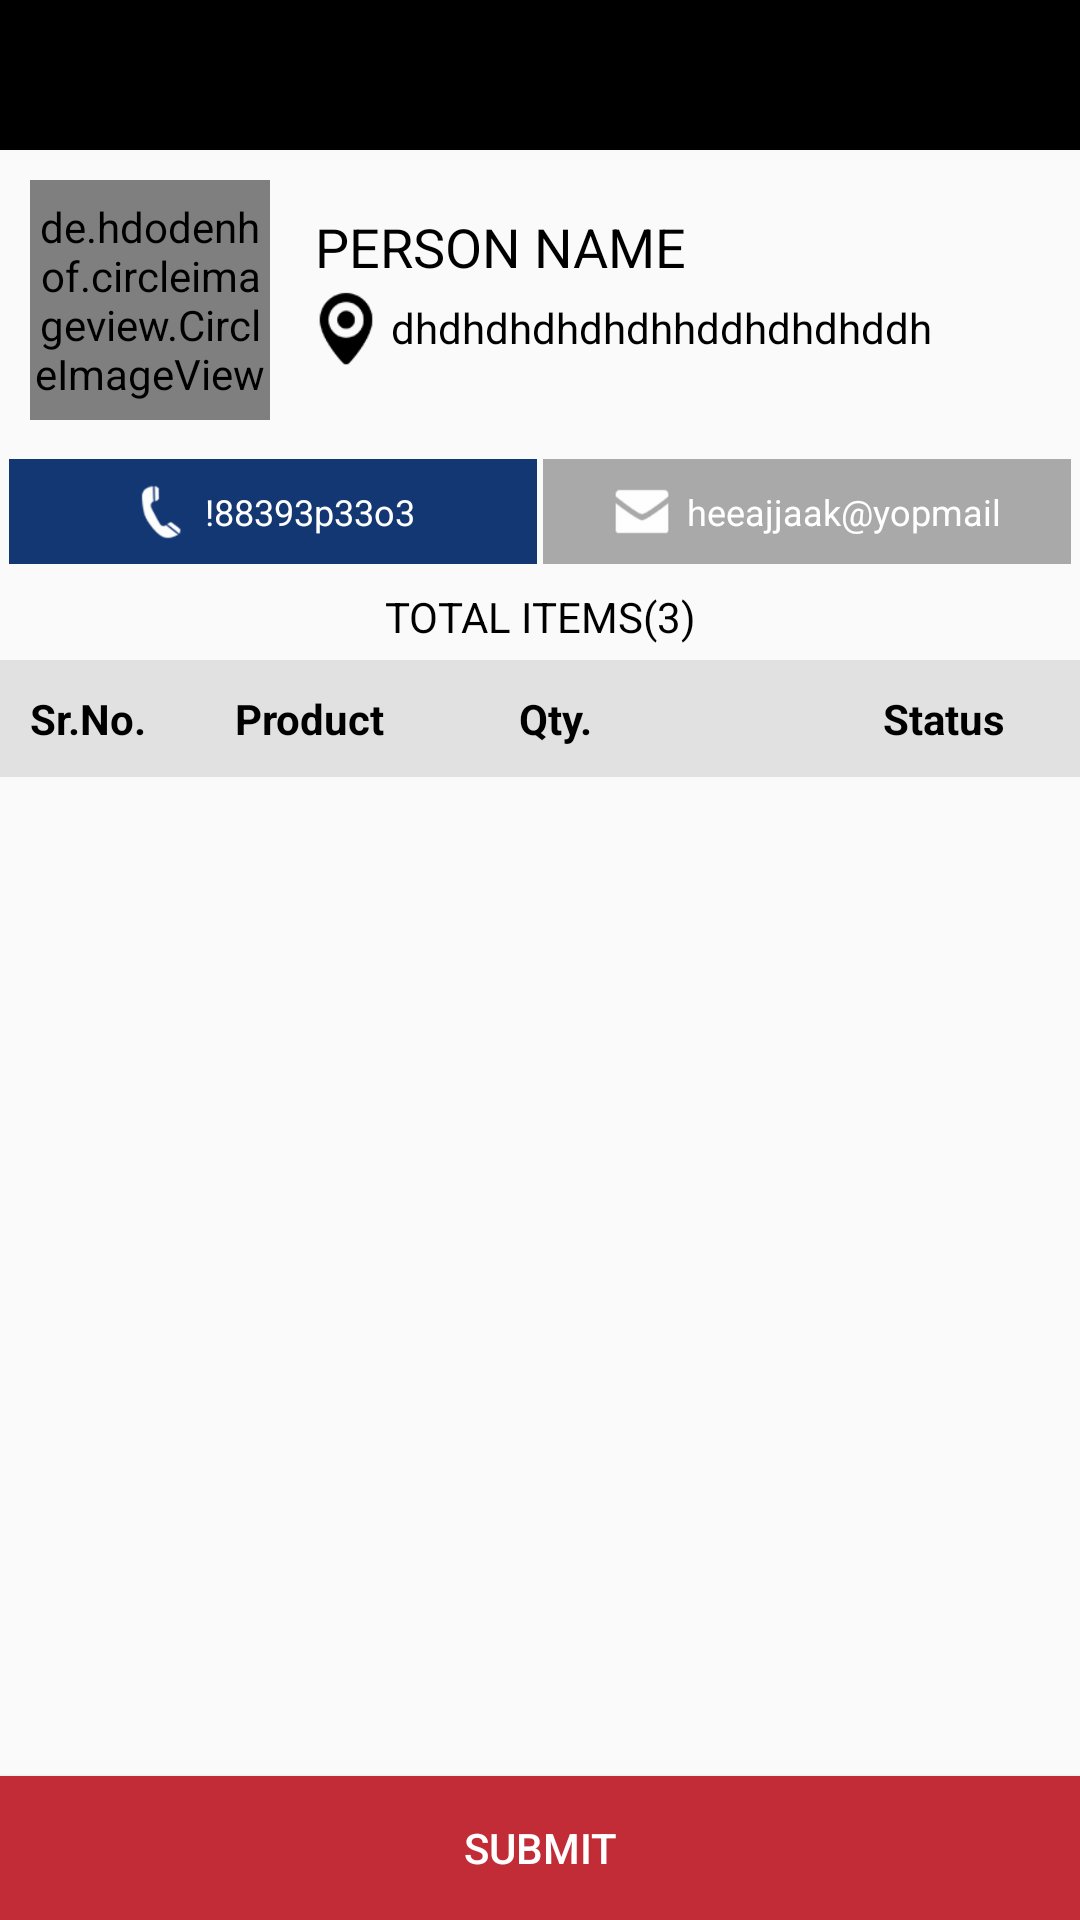

Screen size 1080px x 1920px. Icon name, then its box in pixels as (left=x1, top=y1, right=x2, bottom=y2):
email: (left=615, top=490, right=669, bottom=533)
phone: (left=141, top=486, right=181, bottom=539)
